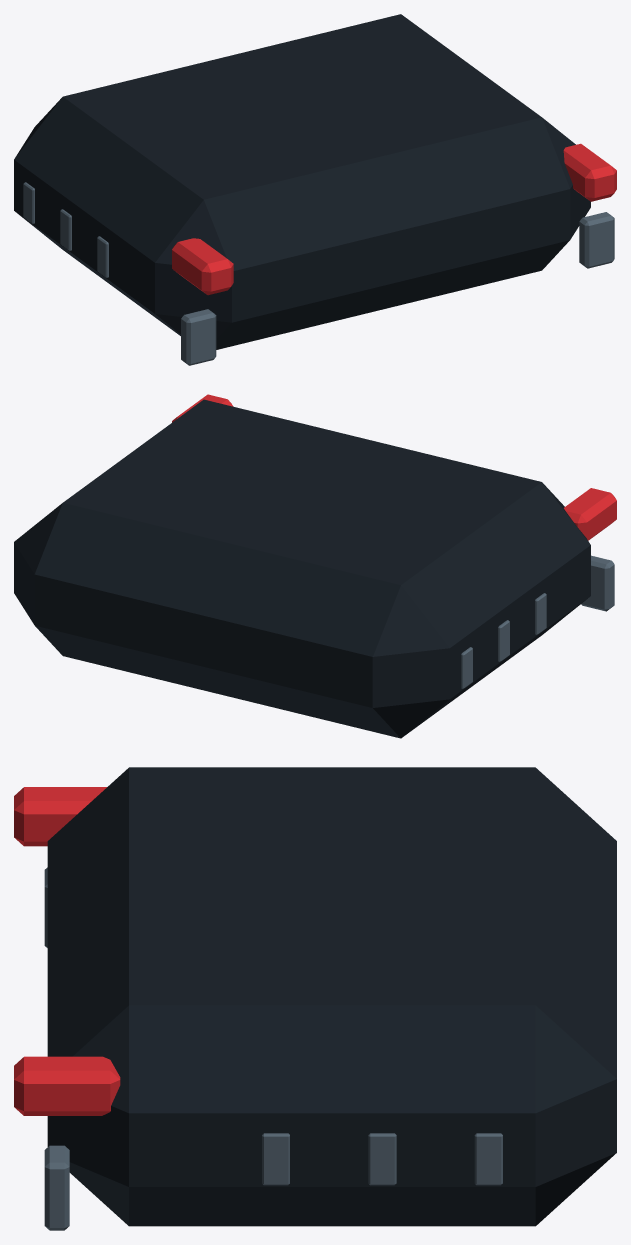
Rendered from 00_chassis.obj.
The picture shows the model from 3 angles, top to bottom: view 1: azimuth 30°, elevation 25°; view 2: azimuth 150°, elevation 25°; view 3: azimuth 270°, elevation 25°; orthographic projection. The views are drawn at different scales.
Parts seen in each view (by area): view 1: fragment_00_chassis; view 2: fragment_00_chassis; view 3: fragment_00_chassis.
Boxes of the visible parts, x1,y1,x2,y2 form: fragment_00_chassis: (14,14,616,365); fragment_00_chassis: (14,394,616,738); fragment_00_chassis: (14,767,616,1230).
Size of the model in its own units: 1.17 by 0.39 by 0.964.
